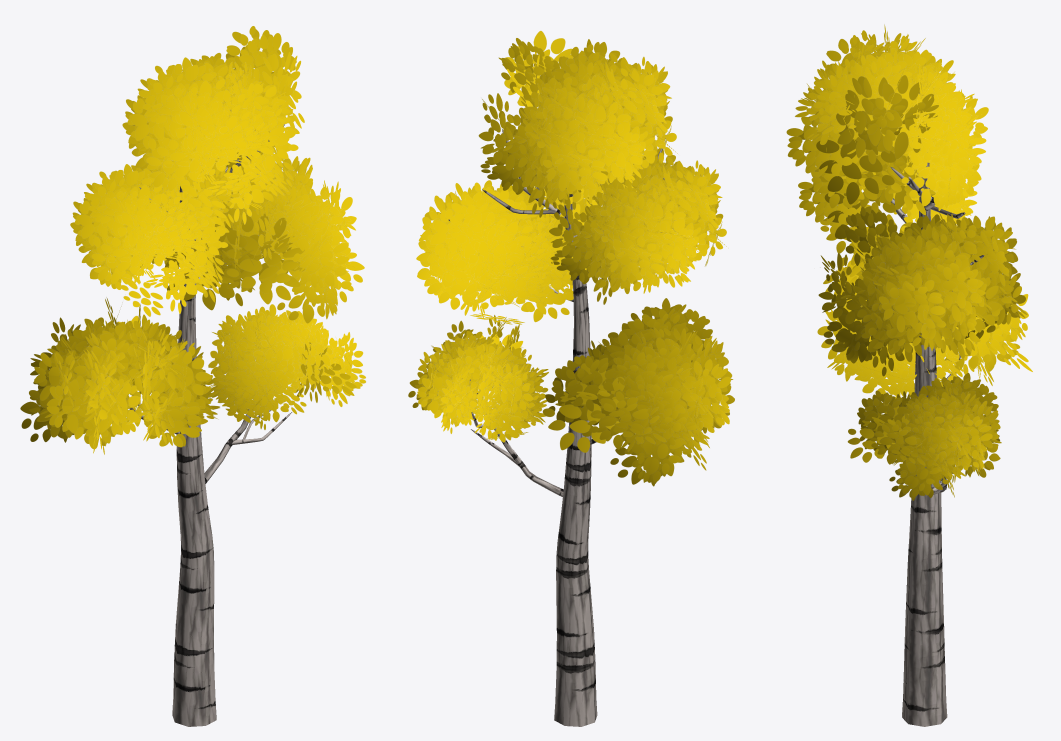
File: BirchTree_1.glb
3 views of the same model, side by side, from view 1: azimuth 30°, elevation 25°; view 2: azimuth 150°, elevation 25°; view 3: azimuth 270°, elevation 25° (orthographic). The views are drawn at different scales.
Visible parts, largest first — view 1: BirchTree_1; view 2: BirchTree_1; view 3: BirchTree_1.
Boxes of the visible parts, x1=… form: BirchTree_1: x1=20, y1=26, x2=365, y2=726; BirchTree_1: x1=408, y1=30, x2=734, y2=726; BirchTree_1: x1=786, y1=24, x2=1032, y2=726.
Bounding box in the file's own units: 2.71 × 5.45 × 1.94.
Materials: 2 (2 with a texture image).
